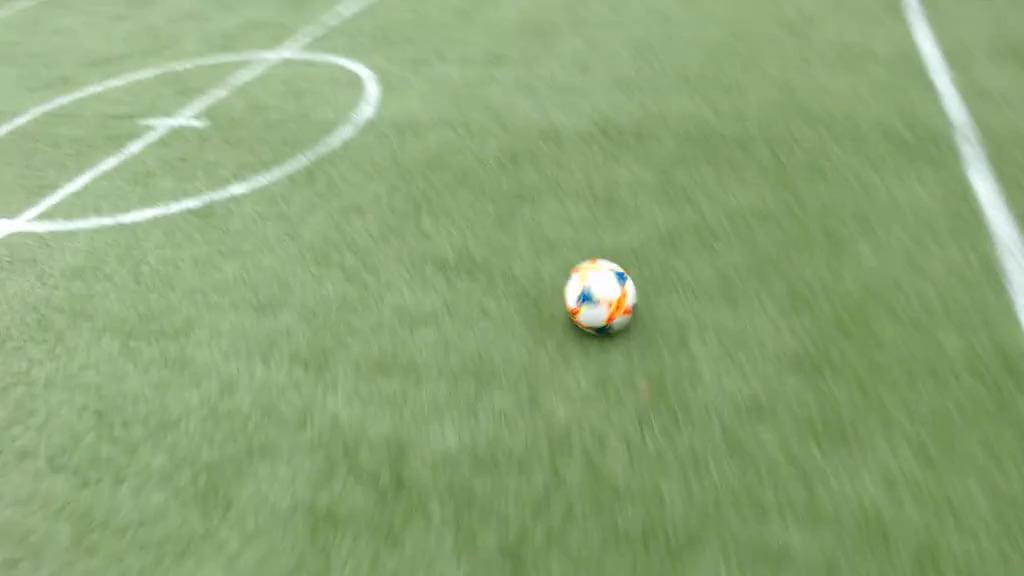ball: (566, 257, 636, 335)
